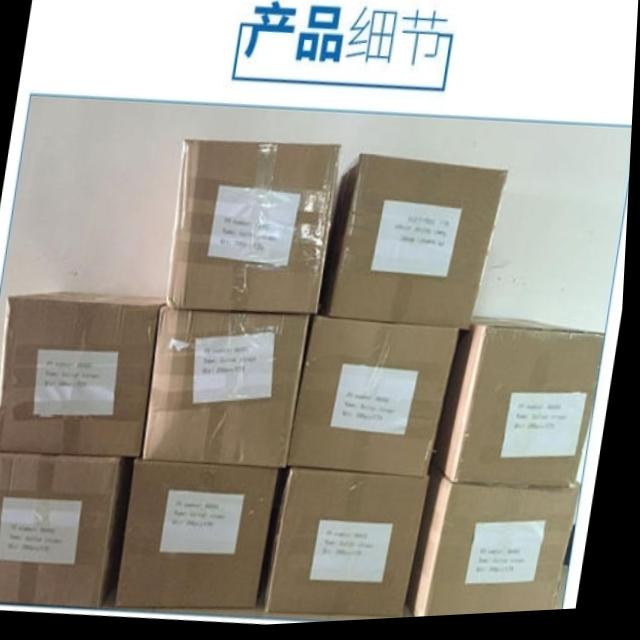box: (321, 157, 510, 335), (169, 142, 342, 318), (439, 320, 608, 491), (147, 302, 314, 471), (290, 318, 461, 481), (0, 292, 167, 458), (411, 474, 587, 622), (269, 470, 435, 622), (120, 459, 284, 611), (0, 450, 135, 610)
